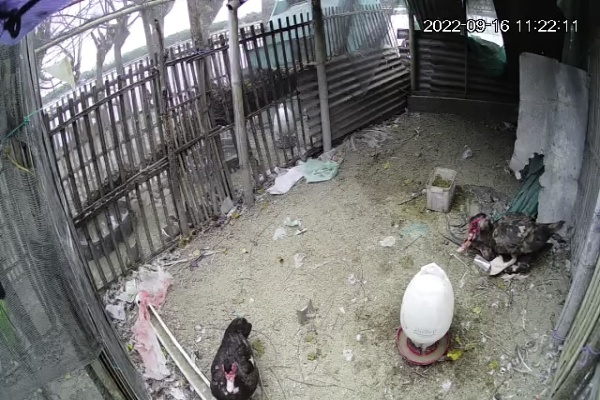Kawin: (454, 203, 567, 289)
